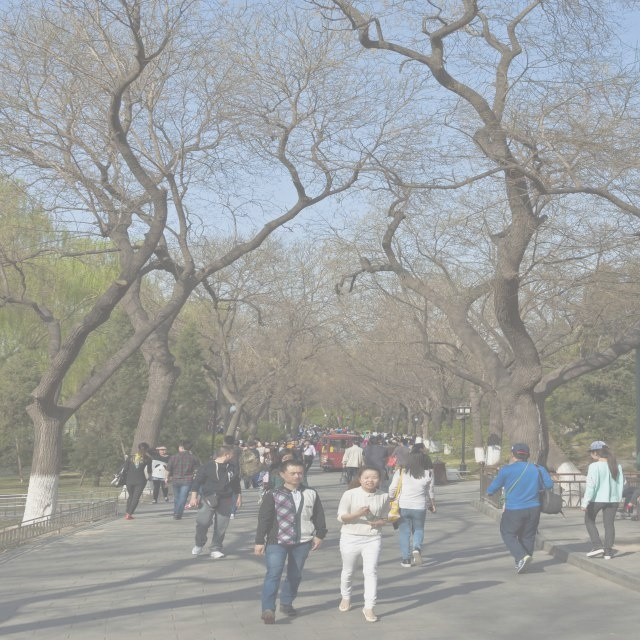pessoa: (147, 445, 232, 614), (252, 461, 330, 624), (484, 442, 566, 576), (334, 464, 392, 624), (187, 444, 244, 559), (578, 439, 628, 562), (386, 452, 438, 569), (164, 440, 202, 520), (212, 434, 244, 520), (120, 441, 154, 521), (265, 448, 310, 492), (361, 436, 390, 490), (258, 444, 278, 505), (240, 442, 262, 489), (342, 439, 364, 480), (386, 438, 412, 472), (619, 481, 639, 525), (410, 442, 435, 476), (228, 440, 244, 488), (301, 440, 316, 474), (297, 424, 330, 437), (322, 438, 347, 454), (422, 433, 458, 444), (384, 440, 395, 474), (290, 439, 306, 462), (256, 440, 266, 458), (316, 438, 322, 464), (363, 431, 371, 448), (204, 424, 218, 433), (404, 438, 416, 448), (311, 436, 320, 448), (276, 442, 286, 452), (286, 439, 296, 449), (252, 438, 260, 450), (240, 441, 250, 450), (298, 436, 307, 446), (390, 438, 400, 447), (243, 423, 252, 433), (272, 441, 280, 452), (276, 438, 286, 446), (390, 432, 400, 440), (62, 430, 70, 440), (385, 436, 392, 444), (379, 439, 387, 446), (396, 434, 404, 441), (408, 441, 414, 450), (371, 429, 378, 436), (218, 426, 224, 434), (328, 427, 336, 433), (384, 433, 390, 440), (388, 434, 394, 441), (344, 424, 350, 431), (404, 434, 412, 439), (264, 440, 270, 446), (330, 428, 336, 434), (341, 427, 347, 433), (370, 432, 376, 438), (386, 428, 392, 434), (337, 427, 342, 434), (285, 440, 291, 445), (347, 428, 352, 434), (394, 442, 399, 448), (237, 440, 243, 445), (359, 431, 364, 437), (380, 431, 384, 438), (306, 434, 312, 438), (332, 430, 338, 434), (354, 432, 360, 436), (340, 430, 346, 434), (349, 431, 356, 434), (220, 424, 224, 429), (305, 436, 310, 440), (334, 427, 339, 431), (336, 431, 342, 434), (412, 438, 415, 444), (378, 432, 382, 436), (248, 441, 252, 445), (370, 430, 373, 432)
